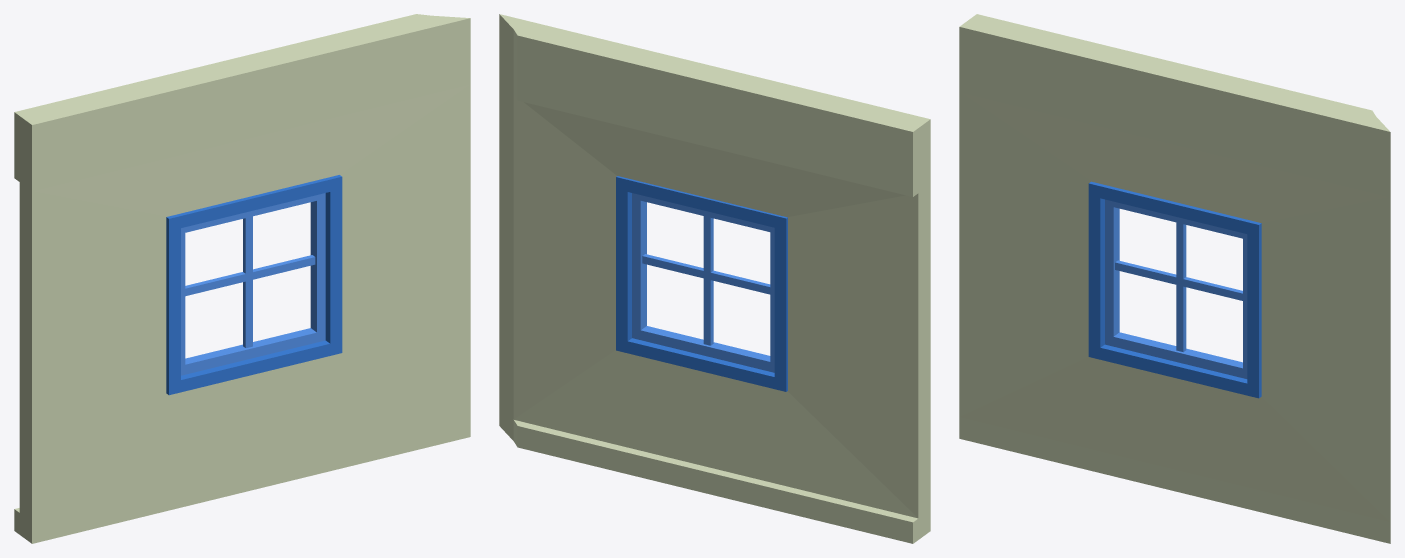
The model's file is BedRoom_Walls_002.fbx.
The picture shows the model from 3 angles, left to right: view 1: azimuth 30°, elevation 25°; view 2: azimuth 150°, elevation 25°; view 3: azimuth 330°, elevation 25°; orthographic projection.
Visible parts, largest first — view 1: Walls.002; view 2: Walls.002; view 3: Walls.002.
Part boxes in pixels (bbox=[...]): Walls.002: bbox=[14, 14, 470, 543]; Walls.002: bbox=[499, 14, 930, 543]; Walls.002: bbox=[959, 14, 1390, 543].
Size of the model in its own units: 219 by 200 by 17.71.
